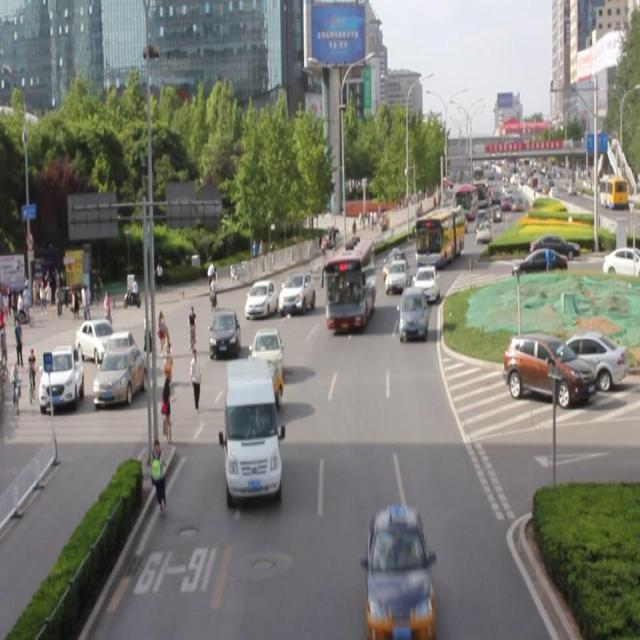car: (367, 506, 430, 640), (238, 359, 283, 414), (251, 328, 284, 382), (210, 308, 242, 359), (399, 286, 427, 342), (280, 274, 316, 316), (246, 282, 276, 321), (412, 266, 440, 305), (382, 252, 409, 284), (385, 262, 410, 294)
truck: (227, 362, 280, 502)
van: (326, 241, 374, 330), (415, 206, 463, 268)
